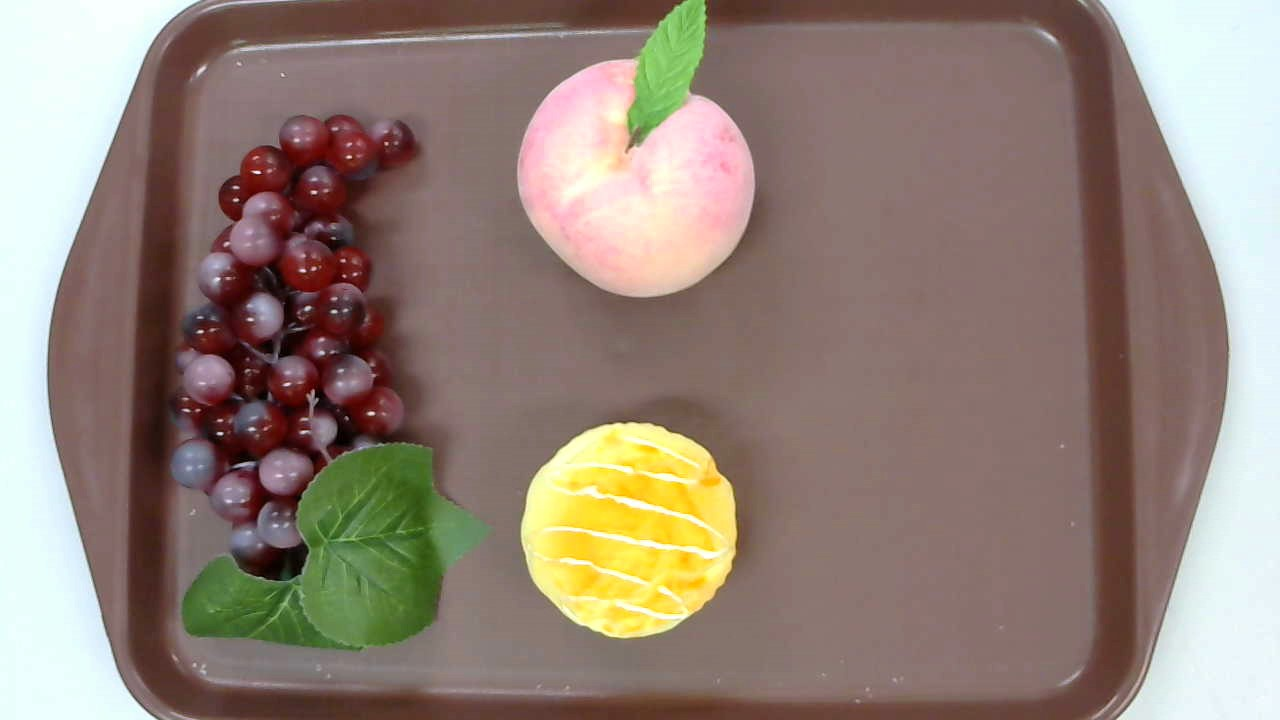cupcake: (521, 418, 737, 638)
grape: (170, 114, 496, 653)
peach: (516, 1, 757, 298)
